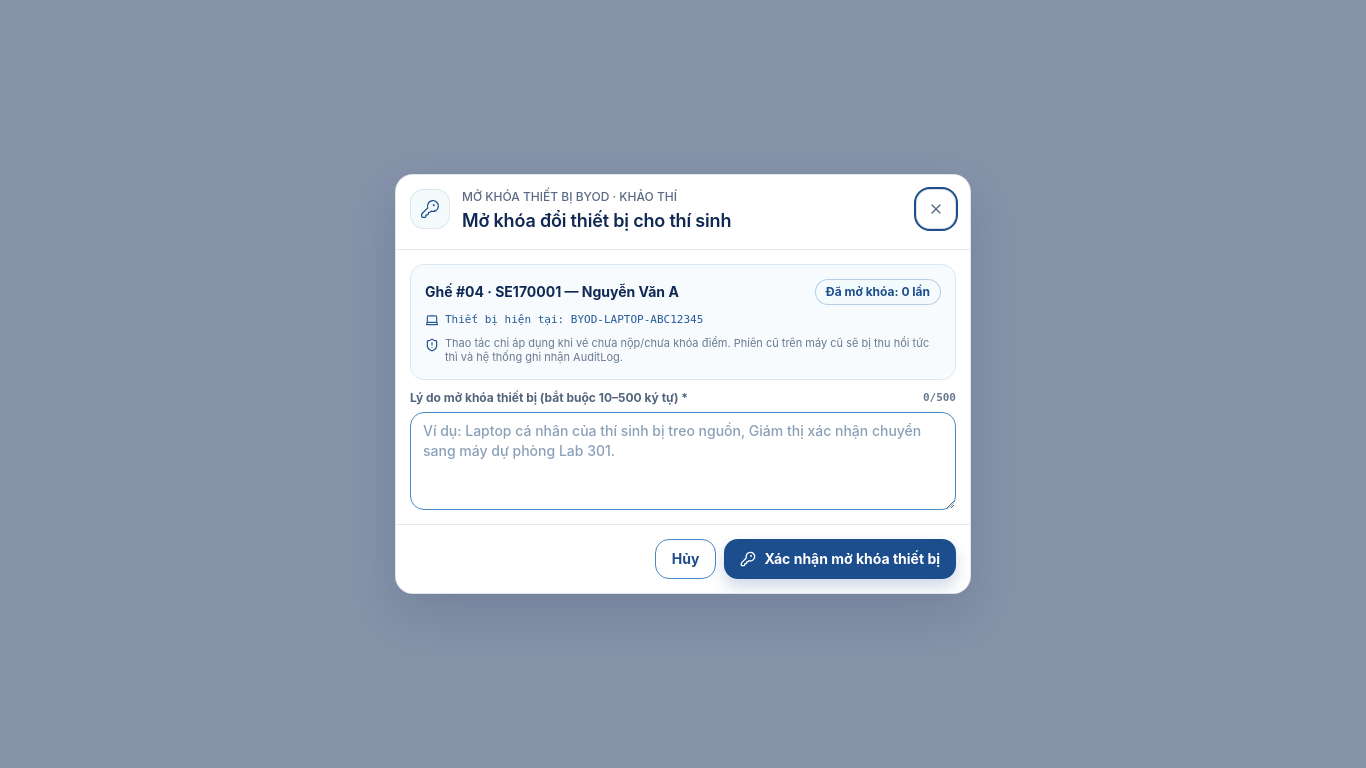
Test case: UnlockDeviceDialog (EO-only BYOD Device Unlock) › enforces 10-500 char reason with live counter and submits valid unlock request
Later steps or results of the test are not shown.
expect the text "0/500" is shown: met, box [923,391,956,405]
Replace the text in the text box labelled "Lý do mở khóa thiết bị (bắt buộc 10–500 ký tự) * 0/500" with "Quá ngắn" at (683, 461), box [410,412,956,510]
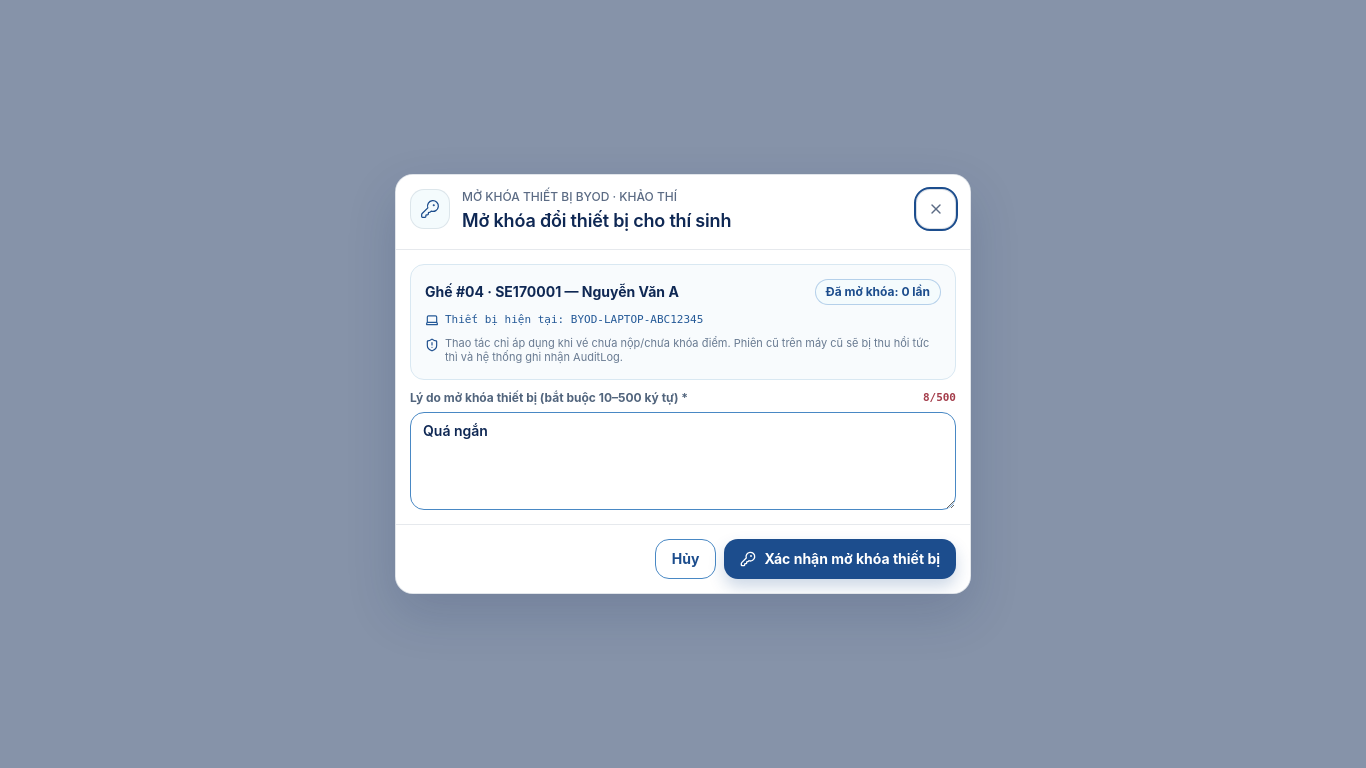
expect the text "8/500" is shown: met, box [923,391,956,405]
Click the button "Xác nhận mở khóa thiết bị" at (840, 559), box [724,539,956,579]
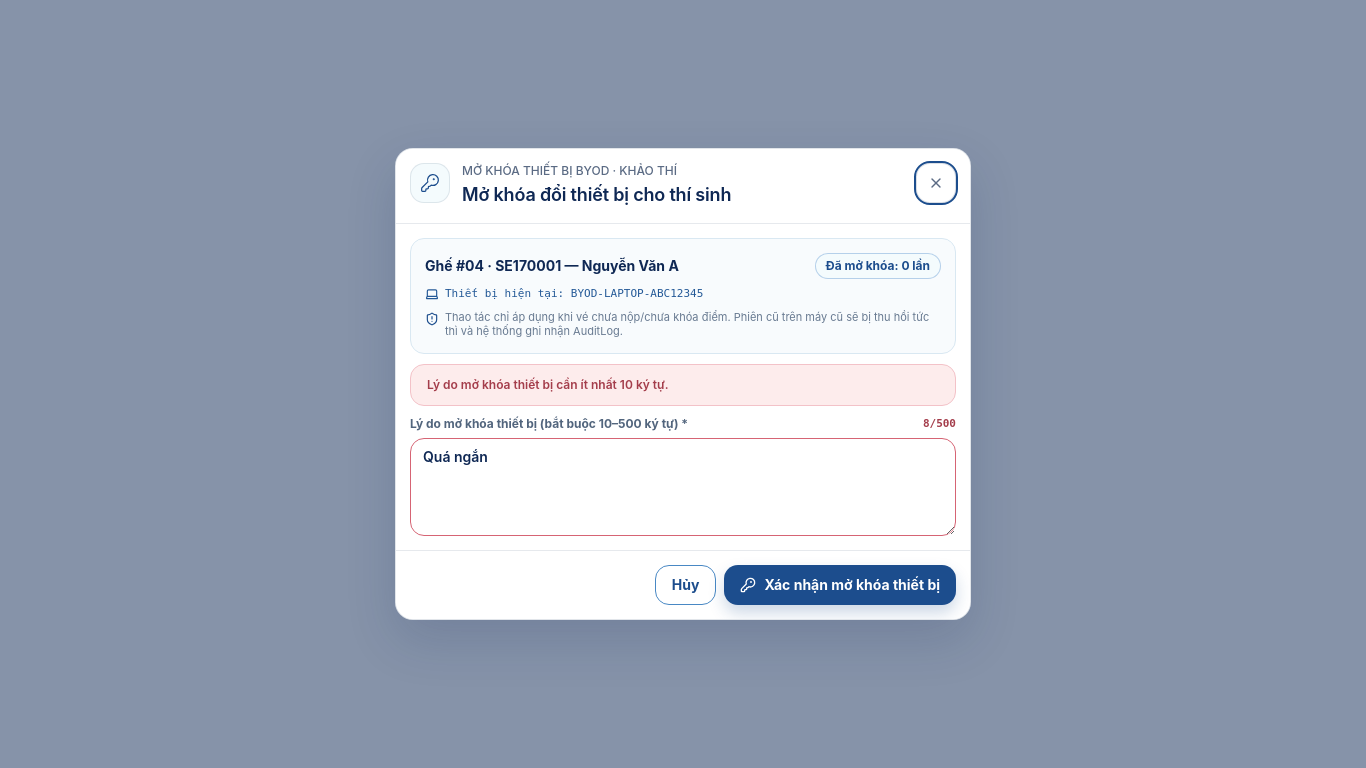
expect the text "Lý do mở khóa thiết bị cần ít nhất 10 ký tự." is shown: met, box [410,364,956,406]
